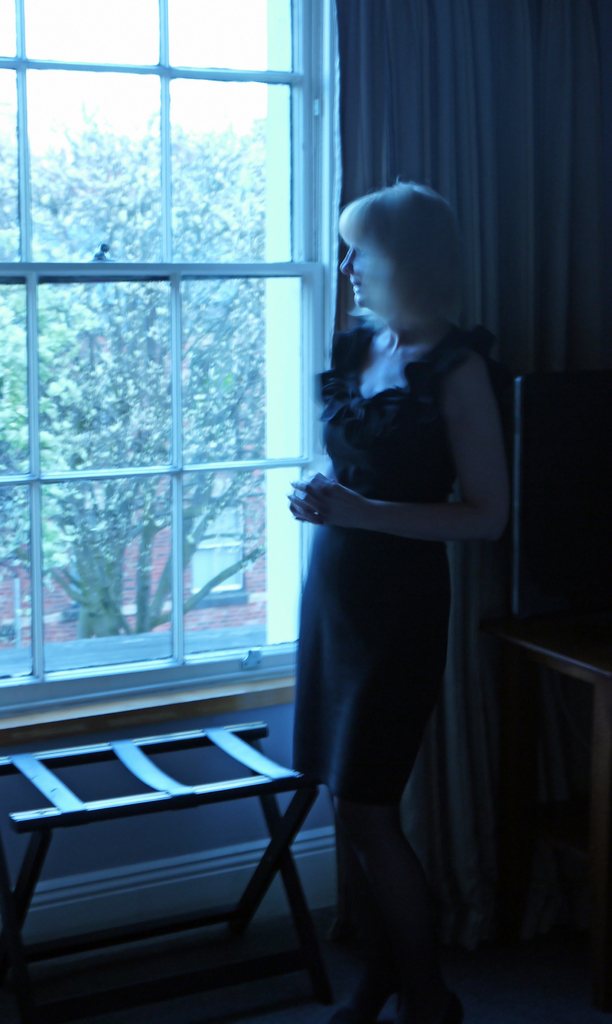Human_hand: (294, 464, 362, 523)
